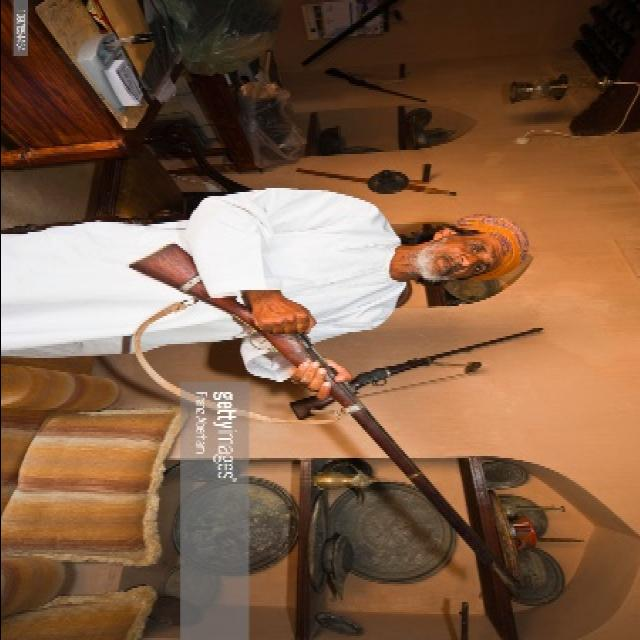rifle: (137, 247, 519, 581), (293, 323, 553, 423)
